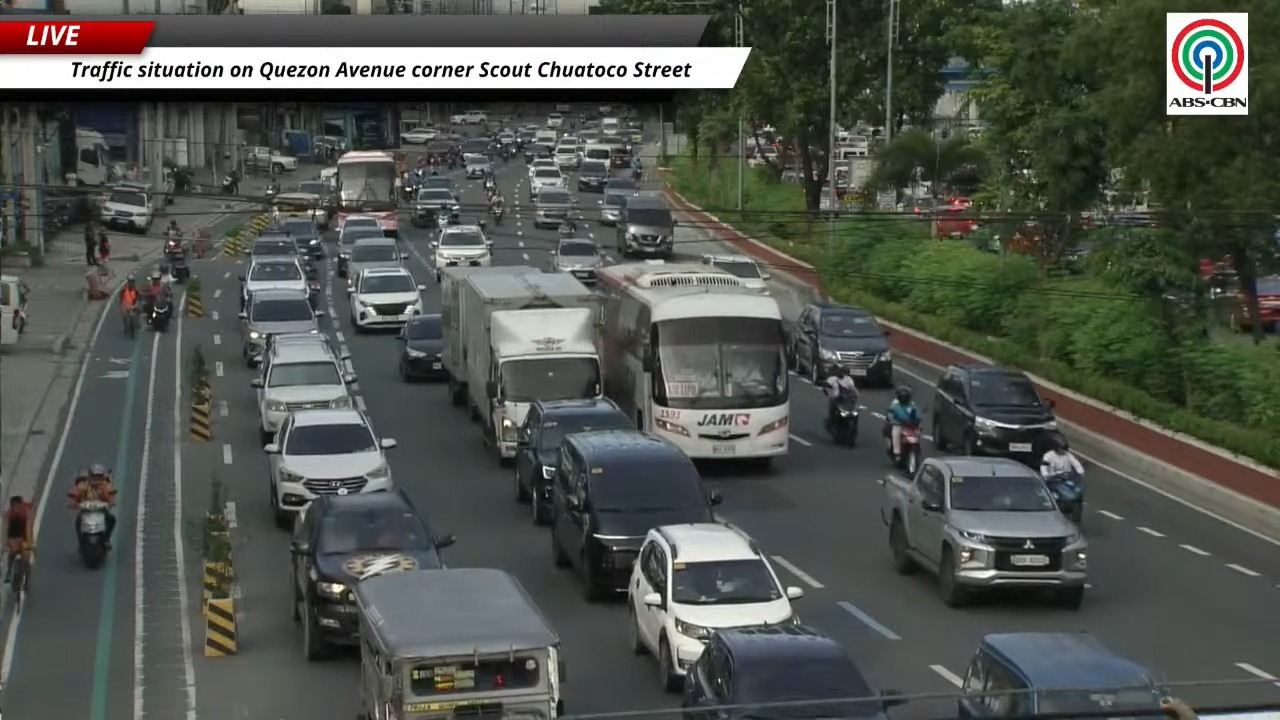bus: (598, 261, 789, 464), (335, 150, 398, 236)
car: (880, 457, 1086, 609), (549, 430, 721, 601), (627, 522, 803, 689), (290, 490, 454, 659), (681, 624, 904, 719), (957, 632, 1168, 719), (264, 408, 396, 528), (513, 398, 634, 524), (931, 364, 1057, 467), (251, 343, 355, 443), (788, 302, 892, 386), (239, 289, 323, 366), (349, 267, 424, 332), (615, 193, 676, 259), (240, 257, 314, 307), (259, 333, 350, 373), (431, 225, 491, 281), (398, 313, 447, 381), (1229, 275, 1279, 331), (347, 237, 405, 284), (548, 237, 603, 286), (701, 255, 770, 292), (100, 186, 153, 232), (337, 226, 384, 277), (411, 188, 459, 227), (532, 186, 576, 228), (279, 219, 323, 259), (297, 181, 332, 230), (243, 146, 297, 174), (248, 230, 298, 260), (598, 189, 632, 226), (419, 176, 459, 201), (577, 159, 608, 191), (583, 140, 609, 178), (601, 136, 630, 168), (527, 154, 561, 177), (522, 142, 552, 166), (553, 144, 580, 170), (459, 137, 494, 157), (463, 154, 492, 178), (339, 216, 380, 231), (400, 127, 438, 143), (604, 177, 638, 192), (450, 110, 486, 124), (535, 129, 561, 147), (517, 126, 536, 148), (618, 128, 643, 144), (496, 131, 516, 146), (545, 112, 563, 127)
motorcycle: (77, 500, 110, 569), (1044, 472, 1083, 526), (886, 424, 922, 475), (824, 396, 858, 446), (148, 293, 171, 331), (165, 252, 190, 283), (163, 234, 184, 256), (307, 278, 321, 309), (221, 174, 238, 194), (490, 205, 504, 224), (558, 223, 575, 238), (265, 182, 279, 197), (483, 178, 495, 192)
truck: (460, 273, 602, 464), (439, 265, 540, 406), (61, 127, 114, 186), (835, 154, 875, 195)
